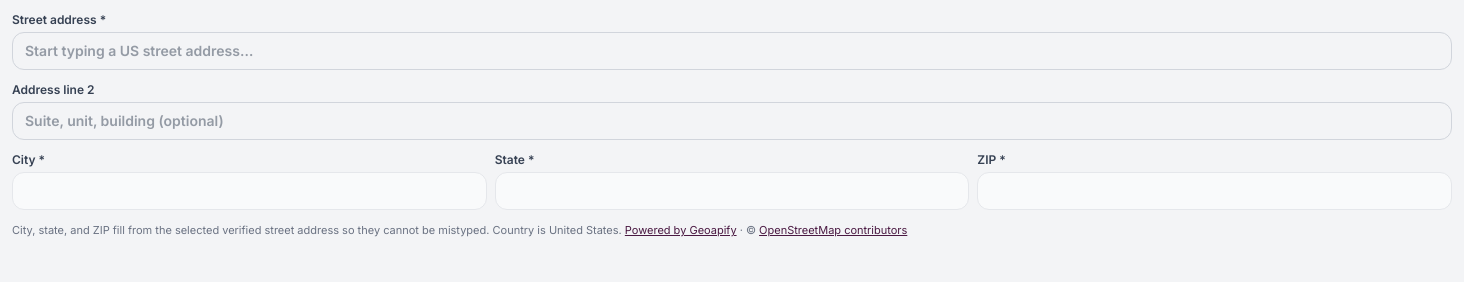
Test case: AddressAutocomplete hang guards › clears Looking up addresses when autocomplete throws
The width and height of the screenshot is (1464, 282).
Type "100 N Tryon" into the dropdown at (732, 51), box [12, 32, 1452, 70]
Wait 300 ms
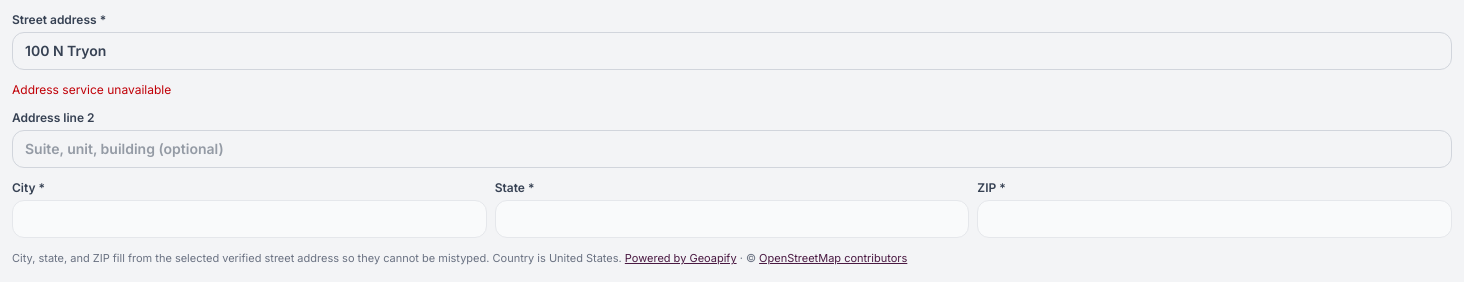
Check: the message reads "Address service unavailable", box [12, 82, 171, 97]
